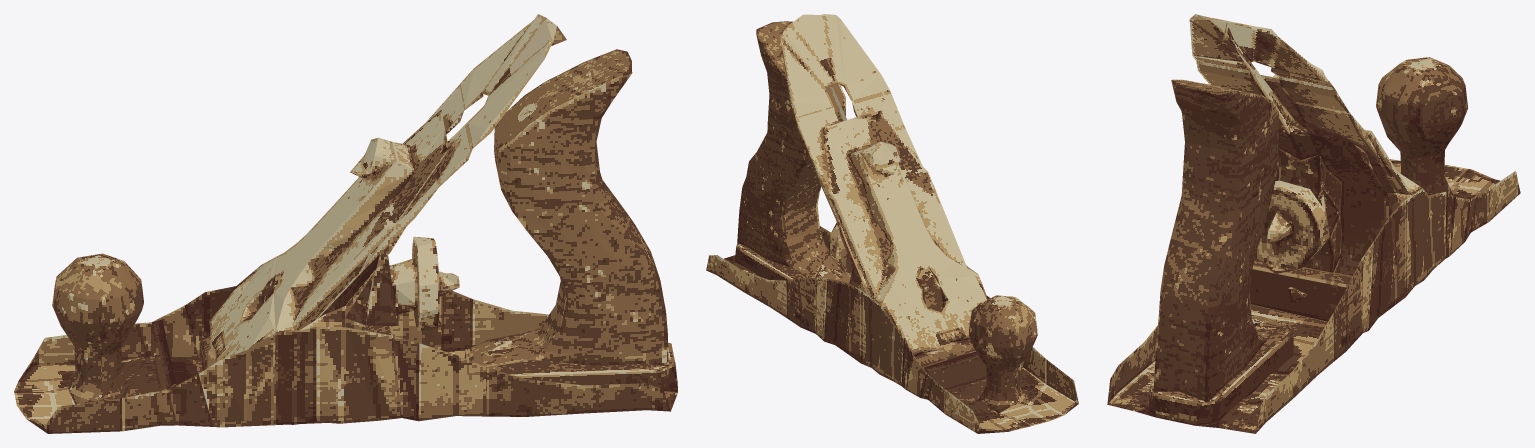
3 renders of one model, left to right at view 1: azimuth 30°, elevation 25°; view 2: azimuth 150°, elevation 25°; view 3: azimuth 270°, elevation 25°, orthographic. The views are drawn at different scales.
Parts seen in each view (by area): view 1: model_m; view 2: model_m; view 3: model_m.
Part boxes in pixels (x1=…): model_m: x1=14, y1=14, x2=677, y2=433; model_m: x1=706, y1=14, x2=1078, y2=433; model_m: x1=1107, y1=14, x2=1520, y2=433.
Size of the model in its own units: 39.66 by 24.77 by 25.67.
Materials: 1 (1 with a texture image).
